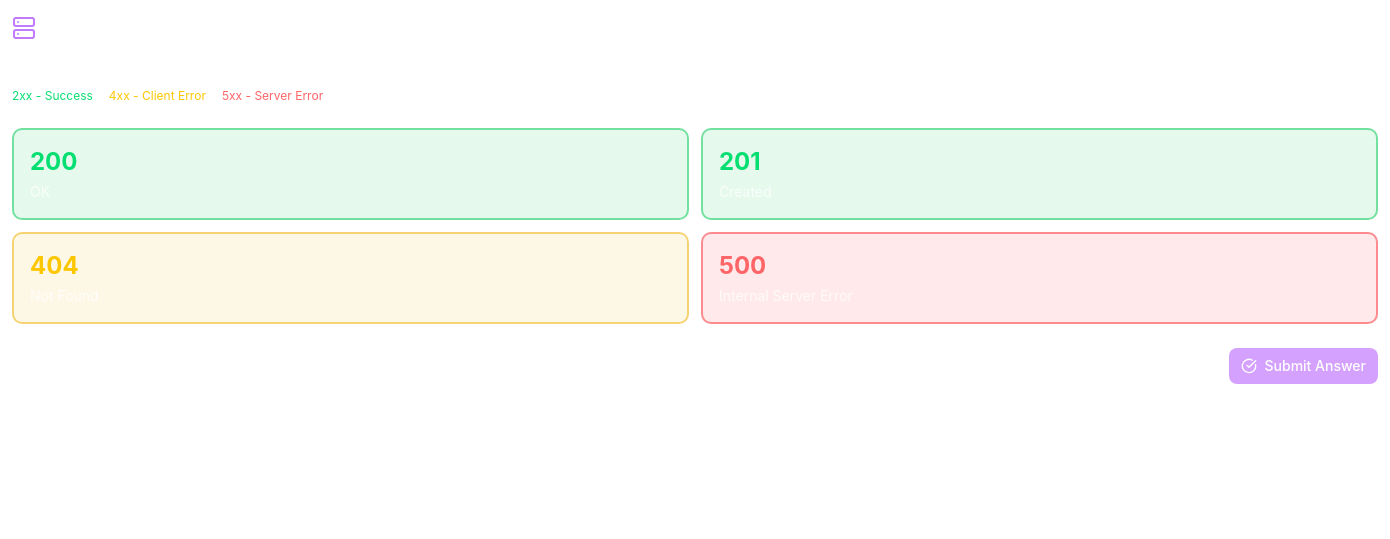
Test: StatusCodeMatch › feedback › shows error feedback after wrong answer
This screenshot has width=1390, height=539.
Click the button "500 Internal Server Error" at (743, 266), box [701,232,1378,324]
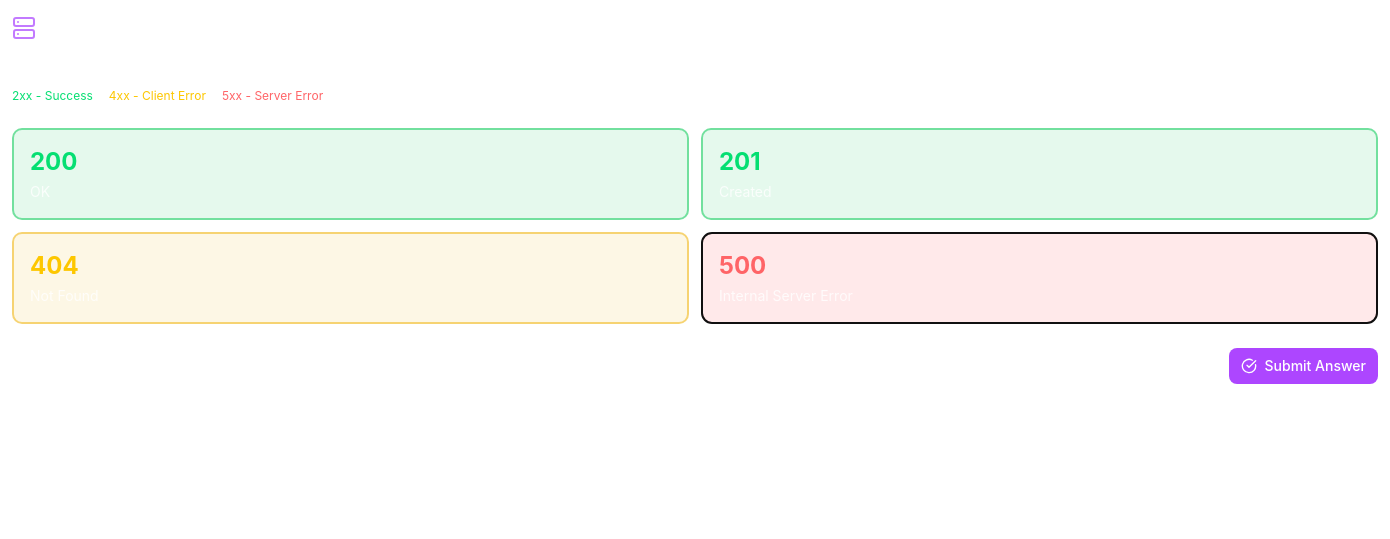
Click the button "Submit Answer" at (1303, 366), box [1228,348,1378,384]
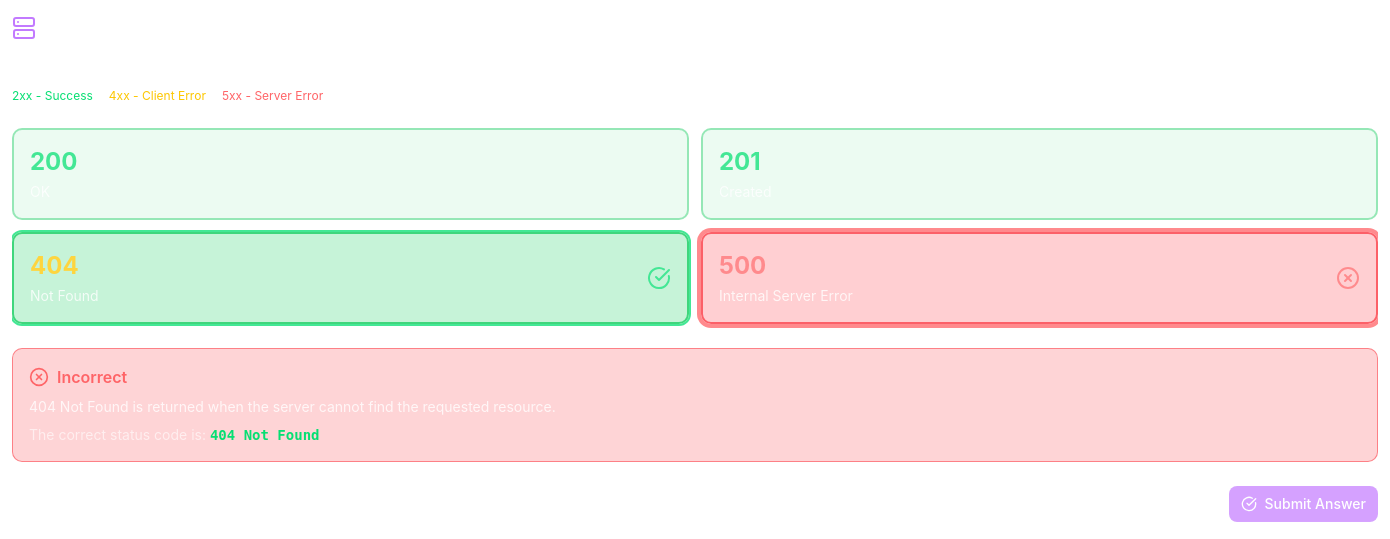
Expected: the text "Incorrect" is shown, [57,365,127,389]
